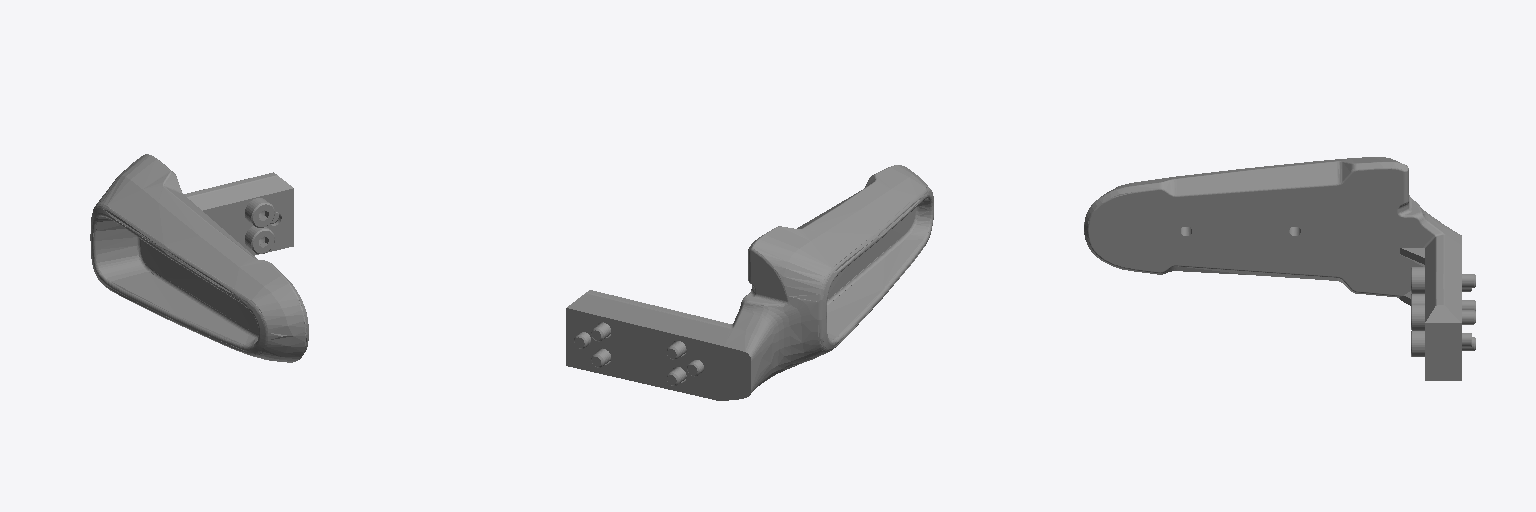
Rendered from IRB14000_GRIPPER_rev00_Tool1_Finger1.obj.
3 renders of one model, left to right at view 1: azimuth 30°, elevation 25°; view 2: azimuth 150°, elevation 25°; view 3: azimuth 270°, elevation 25°, orthographic.
Parts seen in each view (by area): view 1: IRB14000_GRIPPER_rev00_Tool1_Finger1, IRB14000_GRIPPER_rev00_Tool1_Finger1-4, IRB14000_GRIPPER_rev00_Tool1_Finger1-1; view 2: IRB14000_GRIPPER_rev00_Tool1_Finger1; view 3: IRB14000_GRIPPER_rev00_Tool1_Finger1, IRB14000_GRIPPER_rev00_Tool1_Finger1-4, IRB14000_GRIPPER_rev00_Tool1_Finger1-2.
Part boxes in pixels (left/top/right/bottom): IRB14000_GRIPPER_rev00_Tool1_Finger1: left=90, top=154, right=308, bottom=362; IRB14000_GRIPPER_rev00_Tool1_Finger1-4: left=245, top=198, right=274, bottom=227; IRB14000_GRIPPER_rev00_Tool1_Finger1-1: left=245, top=226, right=274, bottom=253; IRB14000_GRIPPER_rev00_Tool1_Finger1: left=566, top=165, right=933, bottom=400; IRB14000_GRIPPER_rev00_Tool1_Finger1: left=1084, top=157, right=1461, bottom=380; IRB14000_GRIPPER_rev00_Tool1_Finger1-4: left=1411, top=304, right=1475, bottom=330; IRB14000_GRIPPER_rev00_Tool1_Finger1-2: left=1411, top=267, right=1475, bottom=293.
Bounding box in the file's own units: 0.0354 × 0.0215 × 0.0542.